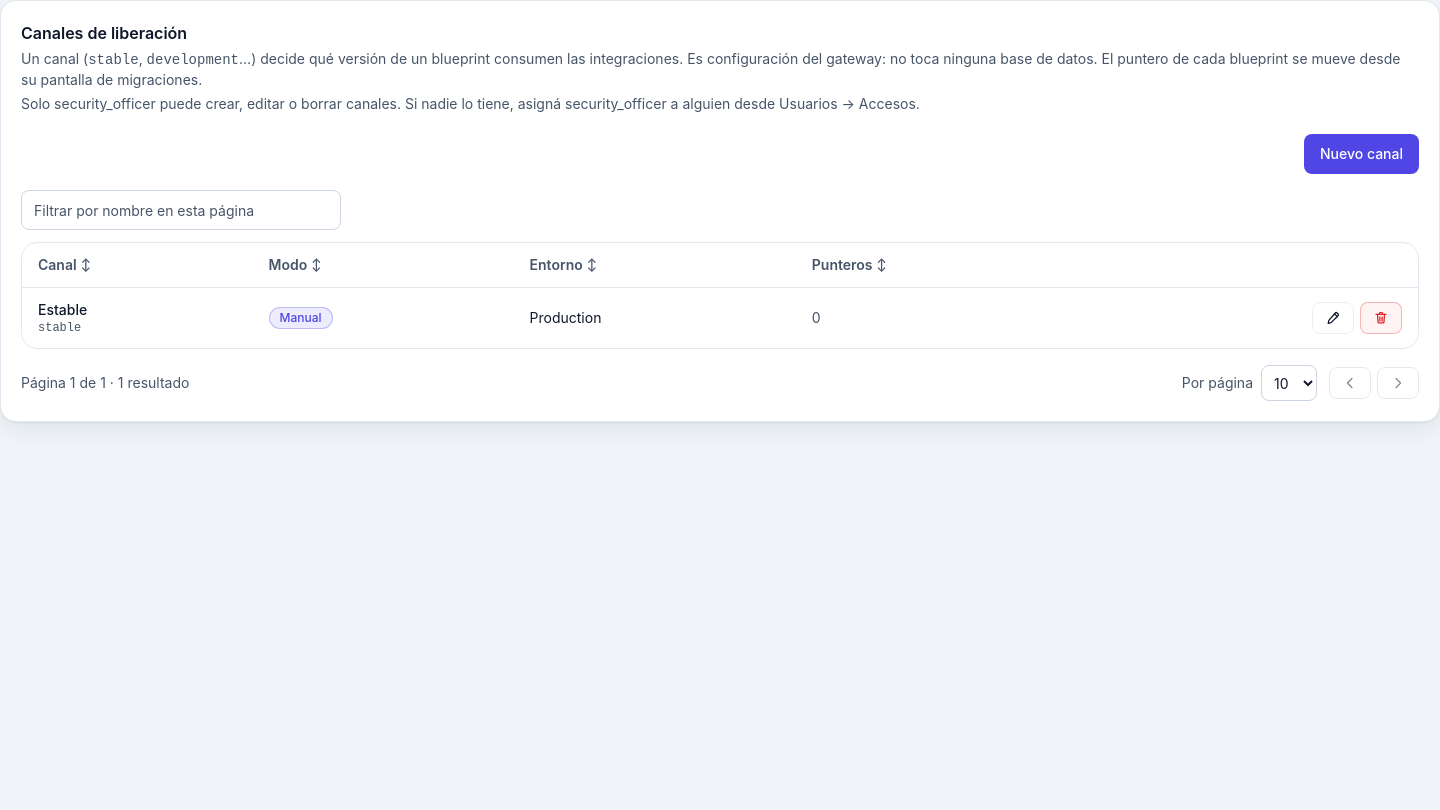
Test case: ReleaseChannelsPanel › un 409 slug_taken se muestra junto al campo identificador
The width and height of the screenshot is (1440, 810).
Step 1. Click the button "Nuevo canal" → (1362, 154), box [1304,134,1419,174]
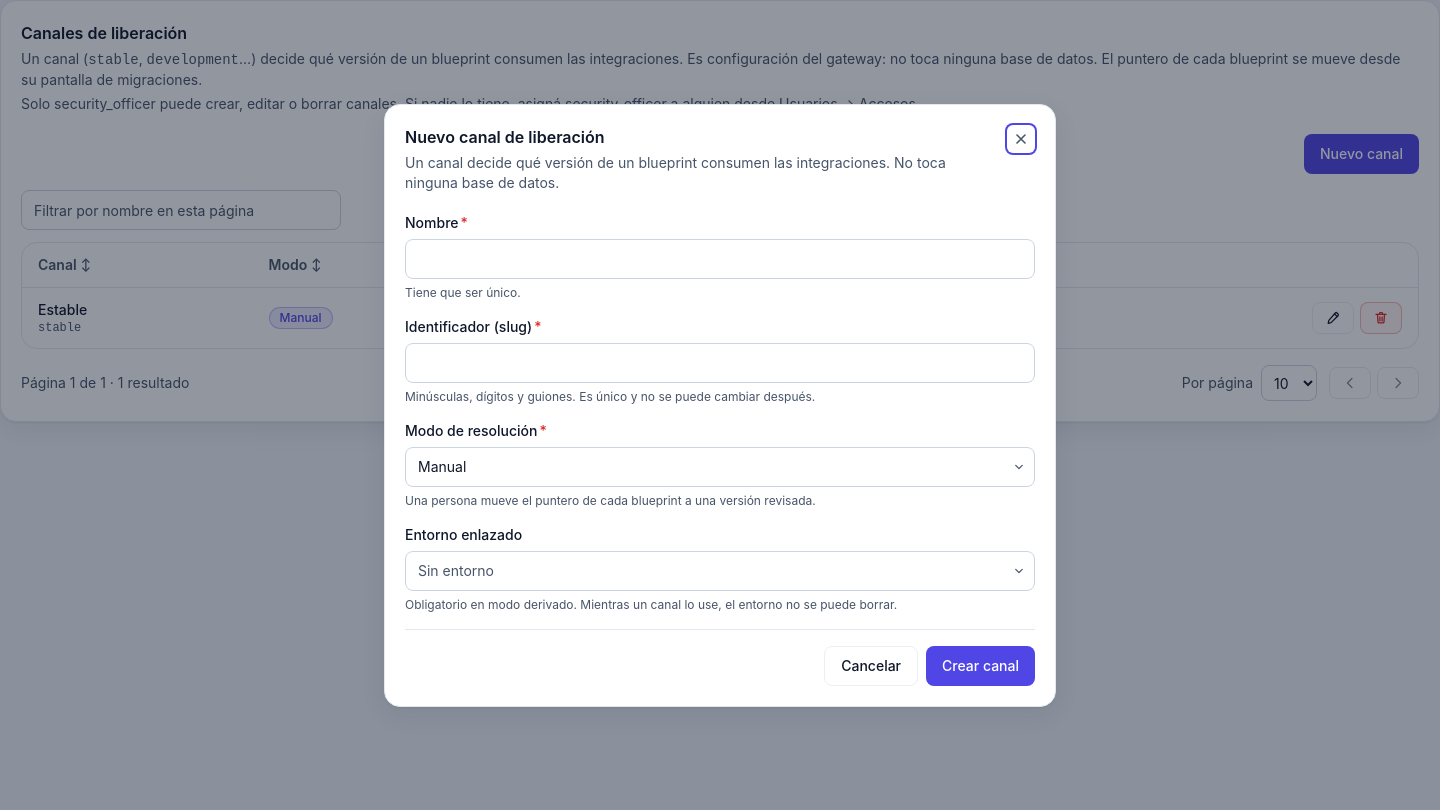
Step 2. Type "Otro" into the field labelled "Nombre*" → (720, 258), box [405,238,1035,278]
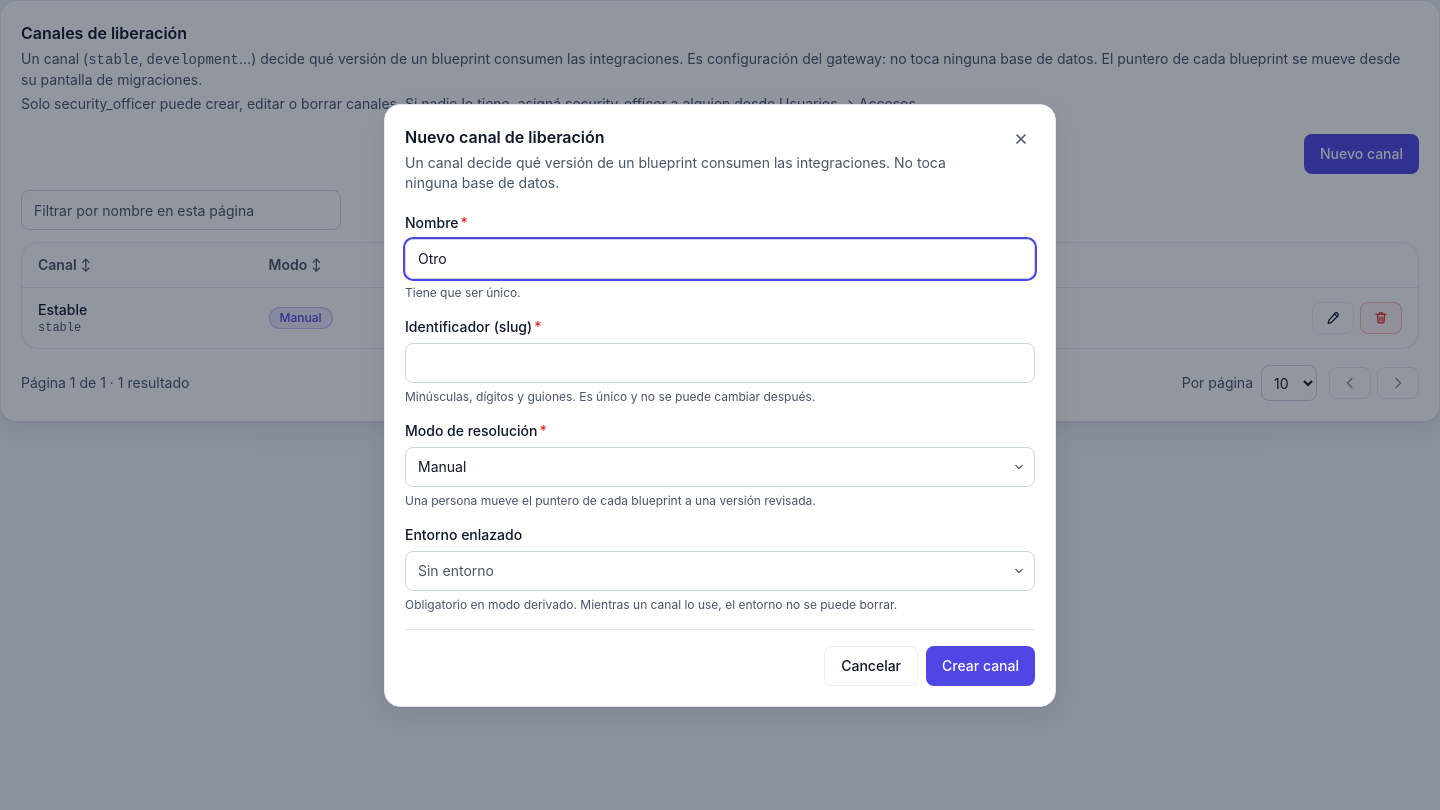
Step 3. Type "stable" into the field labelled "Identificador (slug)*" → (720, 362), box [405,342,1035,382]
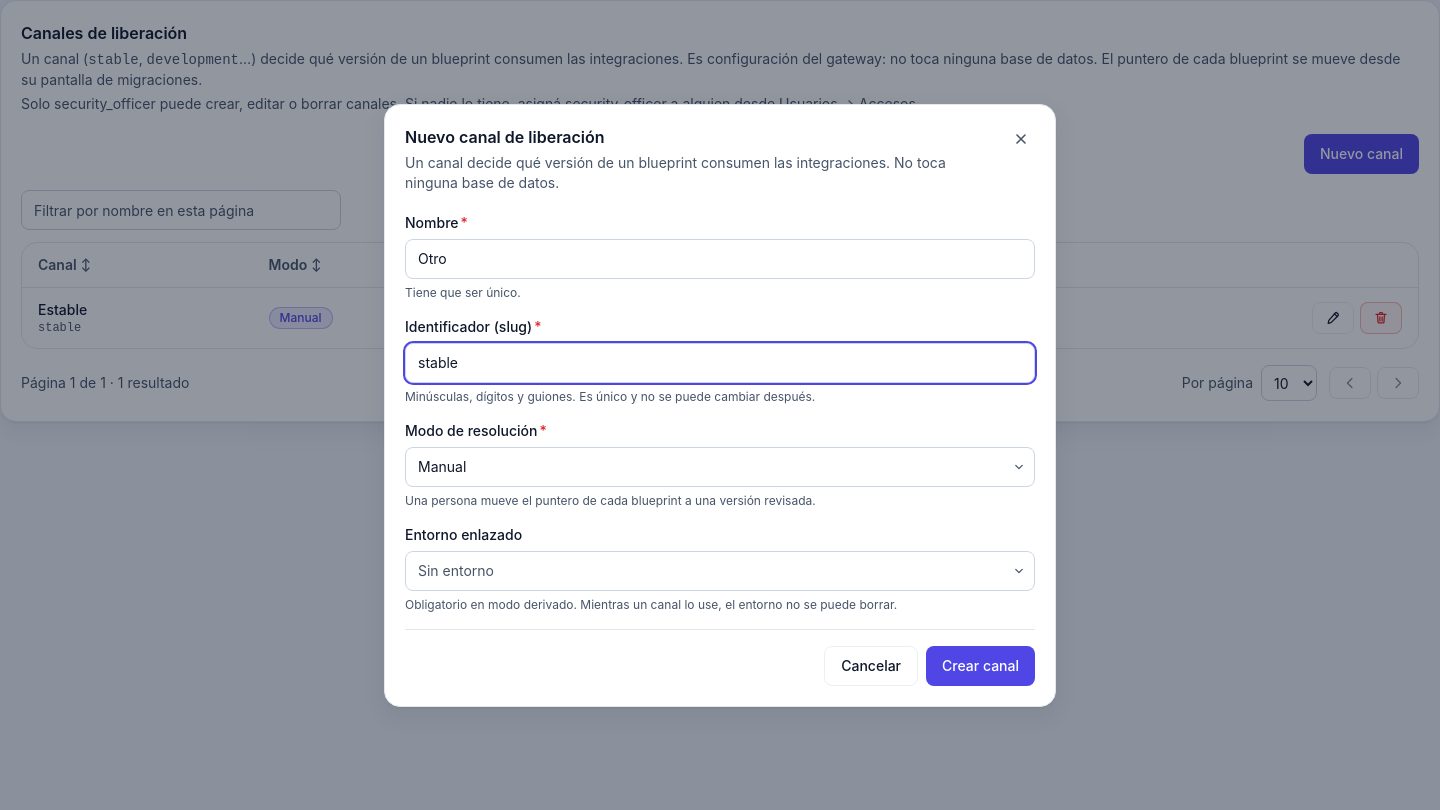
Step 4. Click the button "Crear canal" → (980, 666), box [926,646,1035,686]
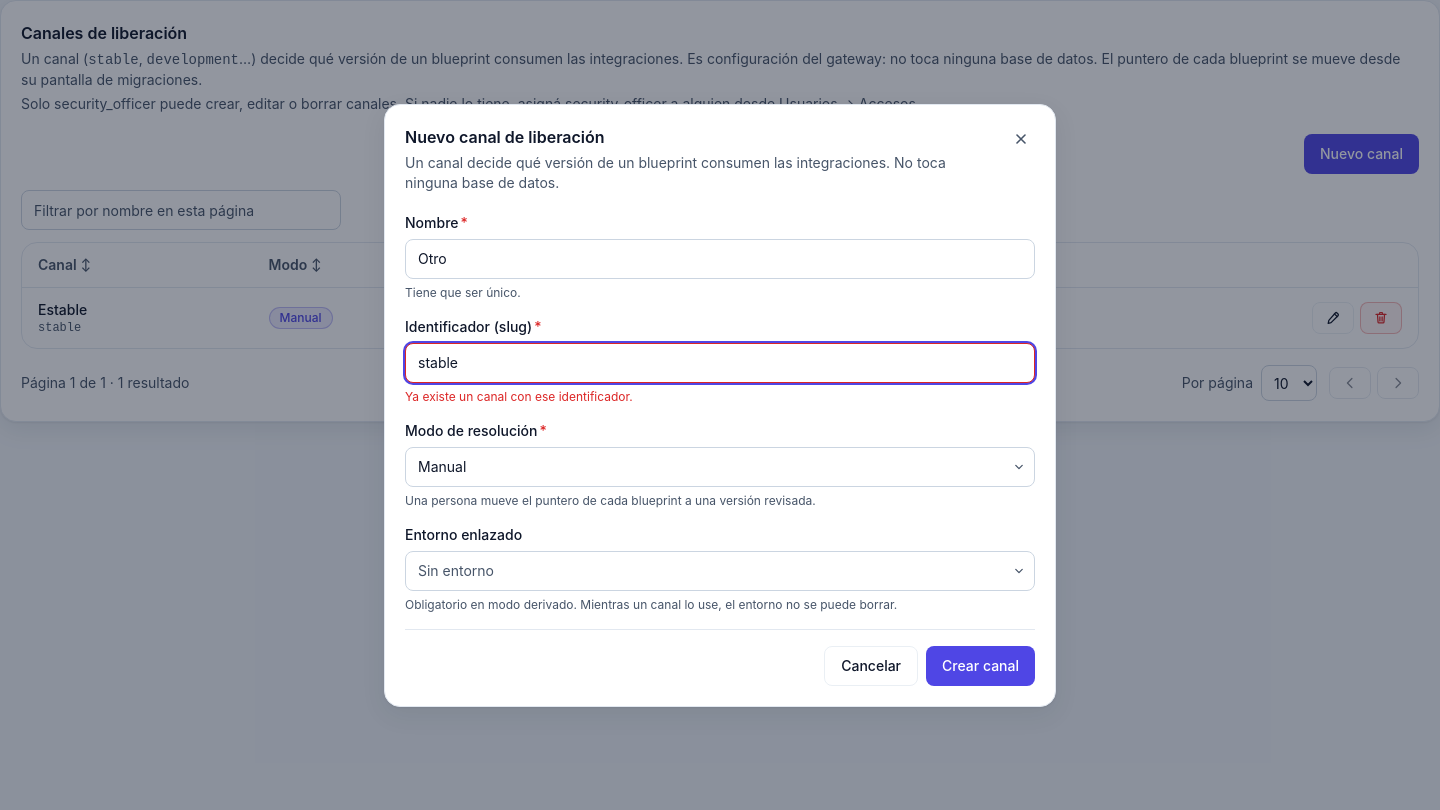
Expected: the text "Ya existe un canal con ese identificador." is shown, [405,388,633,404]
